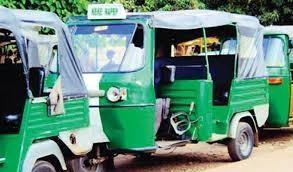keke: (84, 7, 274, 170)
